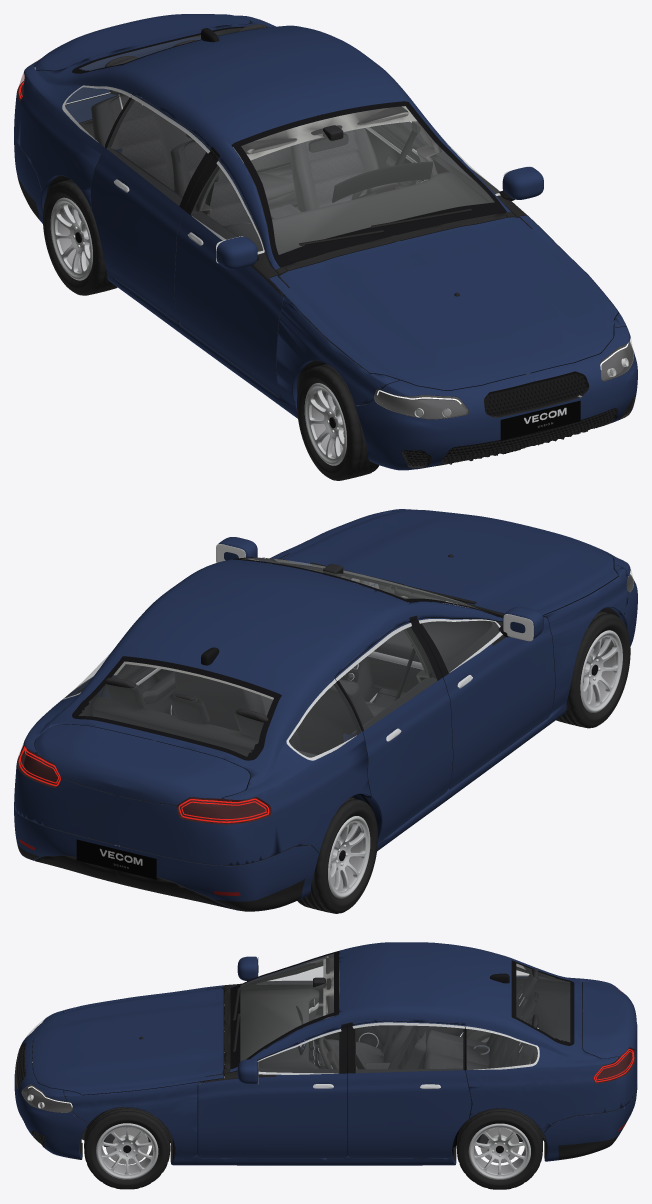
File: mittelklasse.glb
3 renders of one model, top to bottom at view 1: azimuth 30°, elevation 25°; view 2: azimuth 150°, elevation 25°; view 3: azimuth 270°, elevation 25°, orthographic. The views are drawn at different scales.
Visible parts, largest first — view 1: karosserie, haube, frontscheibe, tuer_h_l, tuer_v_l, stoss_v, innen_armatur, innen_ruecksitz, innen_sitz_fahrer, klappe, reifen_v_l, innen_himmel (+18 smaller); view 2: karosserie, haube, tuer_h_l, tuer_v_l, klappe, stoss_h, innen_ruecksitz, innen_armatur, innen_sitz_beifahrer, reifen_h_l, reifen_v_l, innen_sitz_fahrer (+18 smaller); view 3: karosserie, haube, tuer_h_r, tuer_v_r, frontscheibe, innen_armatur, innen_ruecksitz, klappe, stoss_v, stoss_h, reifen_v_r, reifen_h_r (+23 smaller).
Boxes of the visible parts, left/top/right/bottom form: karosserie: left=14, top=15, right=627, bottom=418; haube: left=269, top=215, right=618, bottom=390; frontscheibe: left=232, top=101, right=506, bottom=266; tuer_h_l: left=91, top=93, right=214, bottom=321; tuer_v_l: left=175, top=154, right=283, bottom=396; stoss_v: left=355, top=326, right=637, bottom=470; innen_armatur: left=223, top=161, right=488, bottom=267; innen_ruecksitz: left=91, top=24, right=297, bottom=209; innen_sitz_fahrer: left=290, top=128, right=379, bottom=211; klappe: left=35, top=14, right=250, bottom=70; reifen_v_l: left=297, top=364, right=379, bottom=480; innen_himmel: left=233, top=106, right=417, bottom=162; karosserie: left=14, top=511, right=628, bottom=865; haube: left=270, top=510, right=618, bottom=615; tuer_h_l: left=334, top=620, right=452, bottom=843; tuer_v_l: left=413, top=617, right=554, bottom=788; klappe: left=34, top=724, right=250, bottom=805; stoss_h: left=14, top=806, right=319, bottom=911; innen_ruecksitz: left=91, top=677, right=319, bottom=789; innen_armatur: left=340, top=601, right=498, bottom=701; innen_sitz_beifahrer: left=296, top=679, right=386, bottom=754; reifen_h_l: left=295, top=797, right=377, bottom=913; reifen_v_l: left=556, top=611, right=630, bottom=728; innen_sitz_fahrer: left=174, top=671, right=272, bottom=731; karosserie: left=63, top=942, right=637, bottom=1165; haube: left=32, top=985, right=223, bottom=1095; tuer_h_r: left=348, top=1021, right=471, bottom=1158; tuer_v_r: left=198, top=1026, right=347, bottom=1157; frontscheibe: left=230, top=951, right=338, bottom=1068; innen_armatur: left=240, top=988, right=321, bottom=1068; innen_ruecksitz: left=422, top=968, right=538, bottom=1069; klappe: left=582, top=981, right=637, bottom=1060; stoss_v: left=14, top=1010, right=89, bottom=1159; stoss_h: left=543, top=1044, right=637, bottom=1161; reifen_v_r: left=84, top=1107, right=170, bottom=1189; reifen_h_r: left=456, top=1108, right=542, bottom=1189.
Size of the model in its own units: 2.08 by 1.44 by 4.77.
55 materials, 6 textured.
